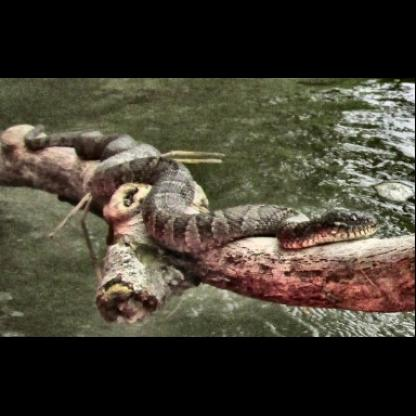Snake: (10, 130, 383, 260)
